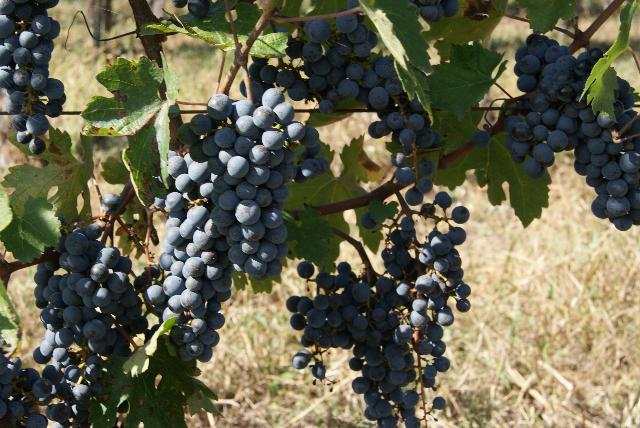grapes: (180, 94, 330, 280), (502, 32, 640, 230), (32, 224, 145, 426), (280, 14, 440, 154), (286, 262, 420, 428), (376, 191, 470, 390), (145, 214, 232, 362), (129, 269, 220, 361)
